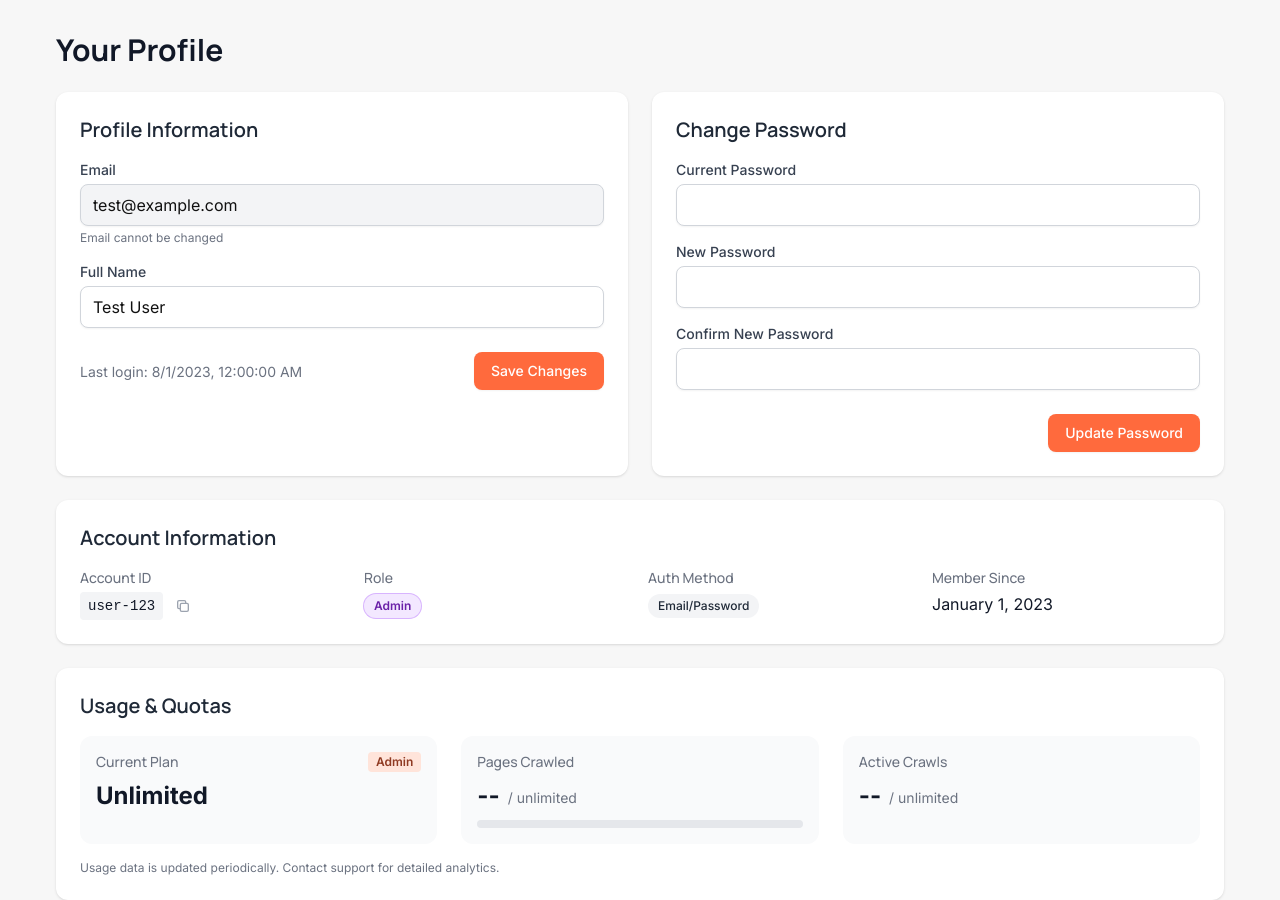
Test: ProfilePage Component › allows updating profile information
The width and height of the screenshot is (1280, 900).
Replace the text in the field labelled "Full Name" with "Updated Name": {"x": 342, "y": 307} [80,286,604,328]
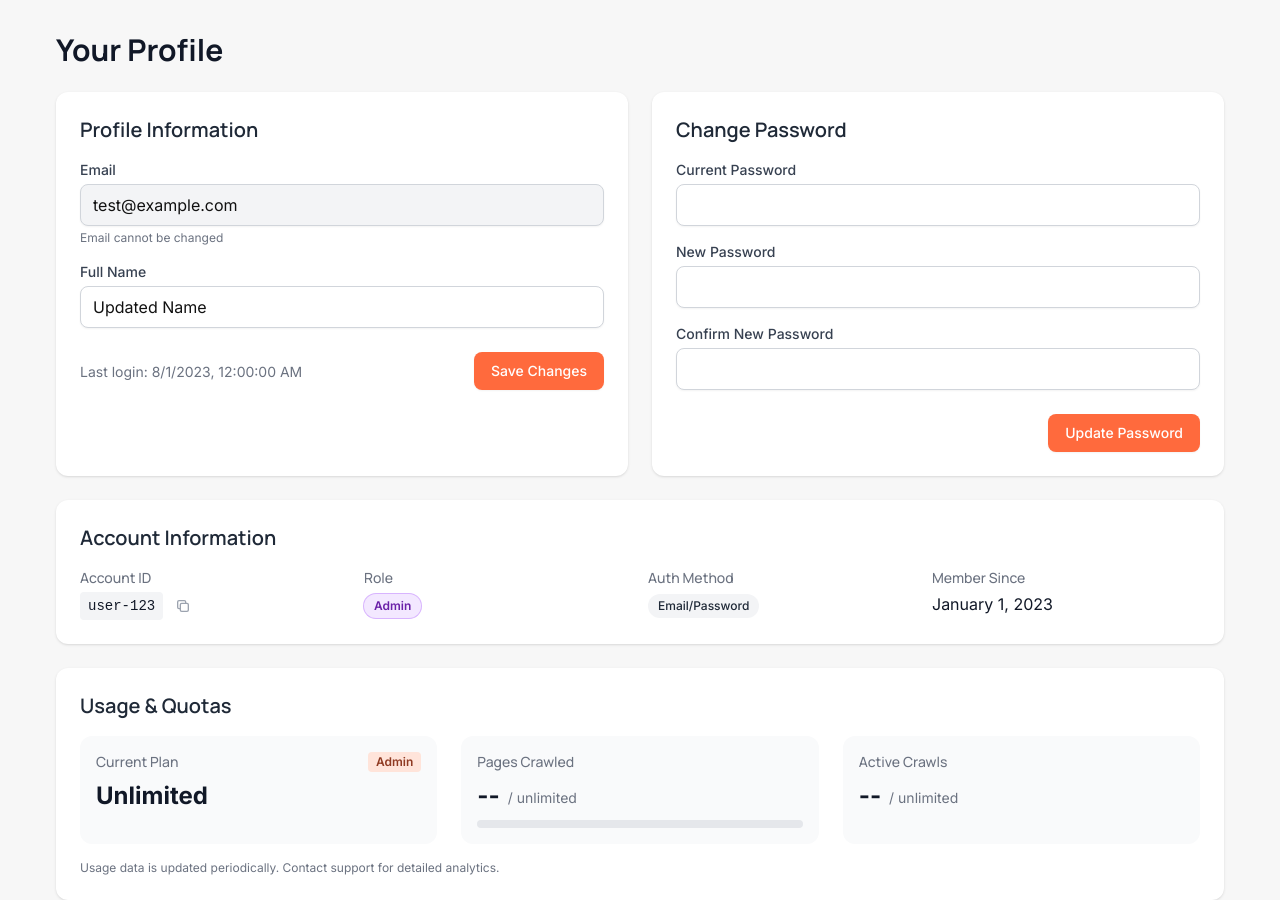
Click the button "Save Changes": {"x": 539, "y": 371} [474,352,604,390]
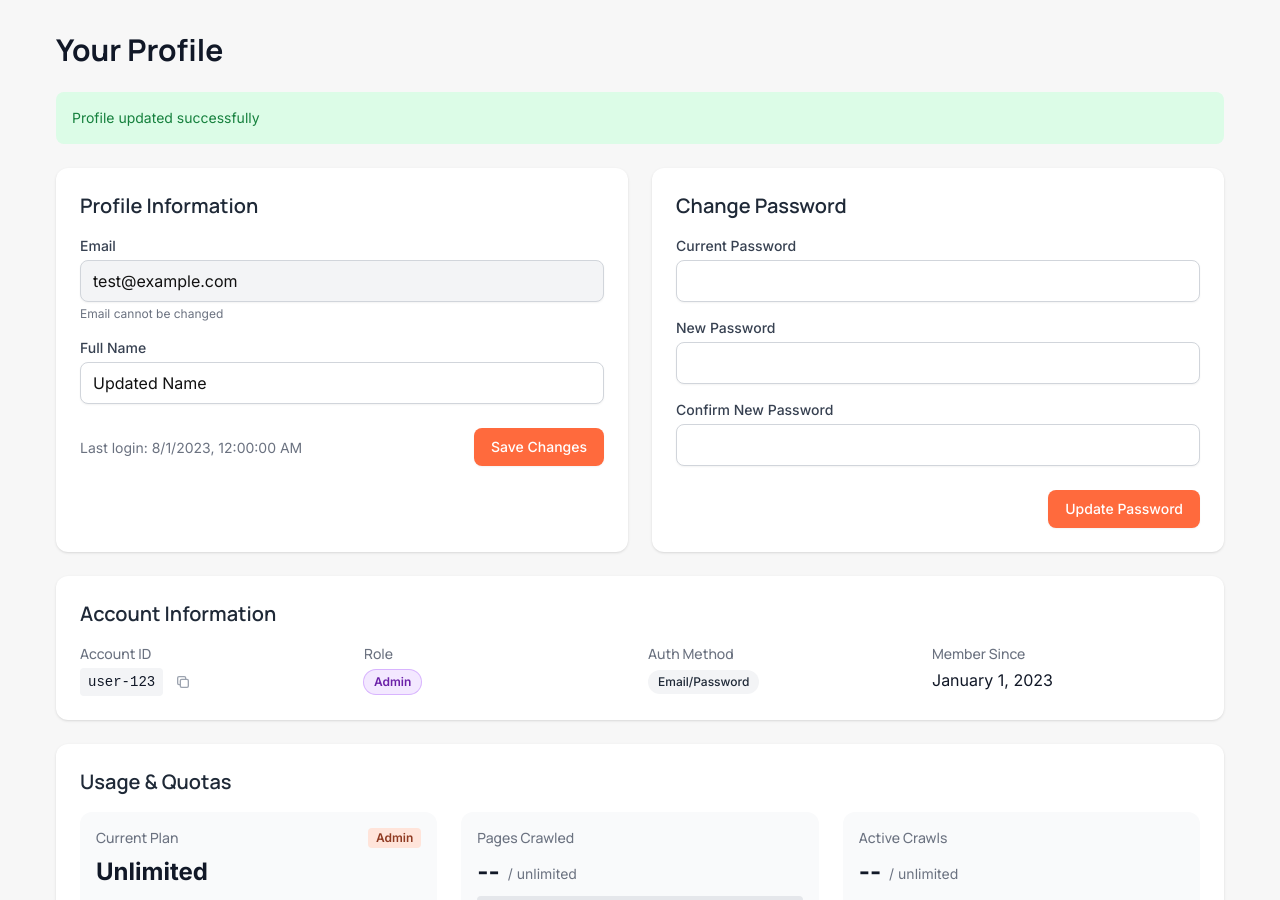
Expected: the text "Profile updated successfully" is shown, [56,92,1224,144]
